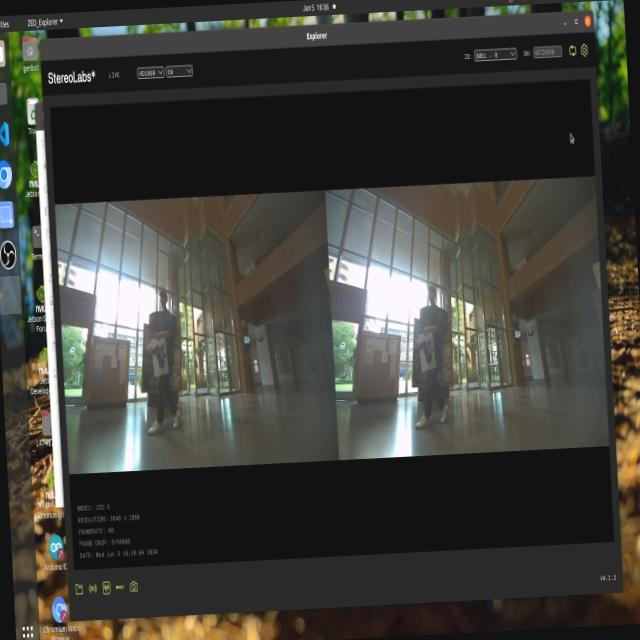blue: (149, 338, 173, 378), (419, 332, 436, 368)
